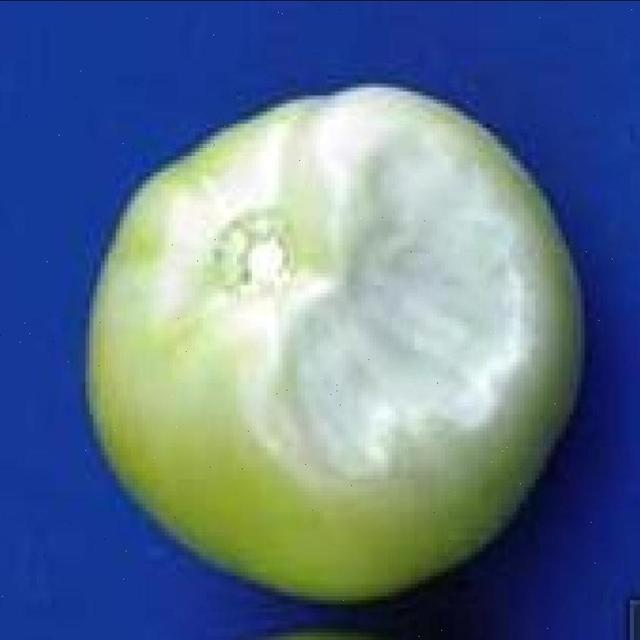Sunscald Fruit: (84, 151, 261, 256)
